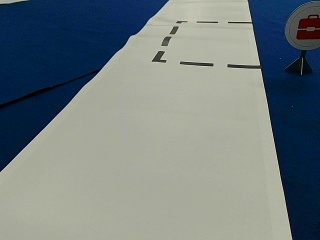company: (285, 2, 319, 48)
